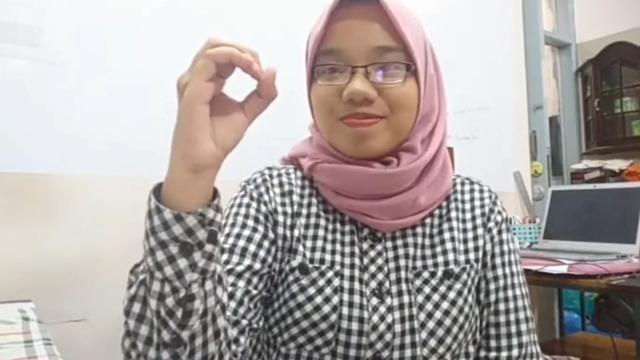O: (171, 33, 281, 160)
